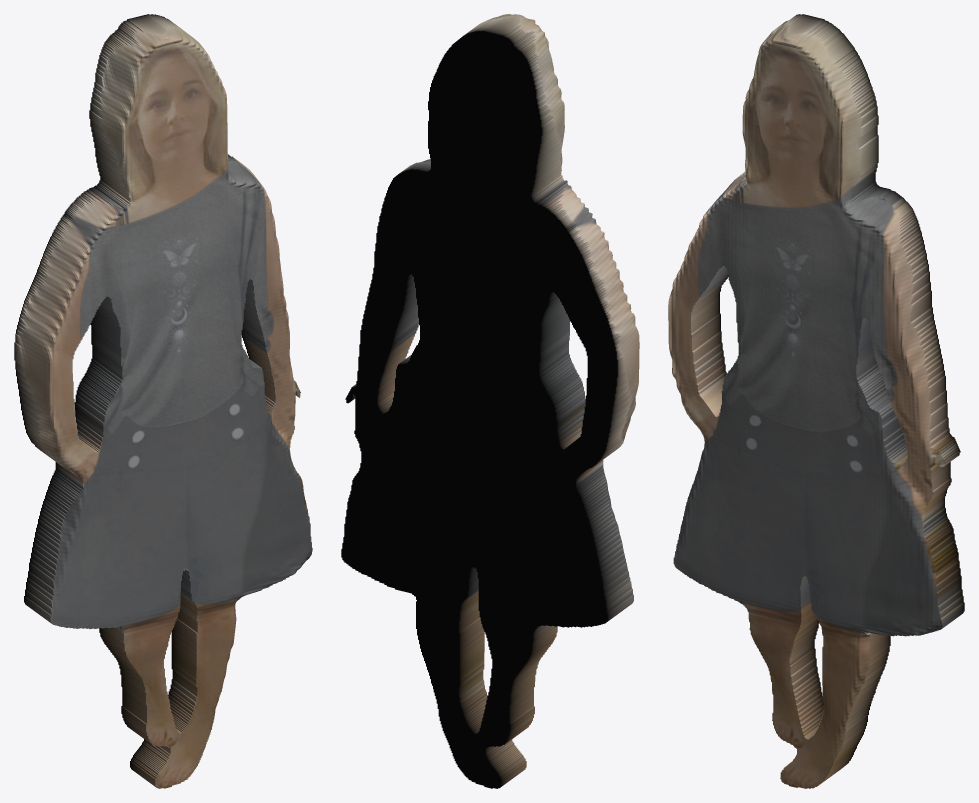
Rendered from avatar_20260409_075040.glb.
3 views of the same model, side by side, from view 1: azimuth 30°, elevation 25°; view 2: azimuth 150°, elevation 25°; view 3: azimuth 330°, elevation 25° (orthographic).
Parts seen in each view (by area): view 1: world; view 2: world; view 3: world.
Boxes of the visible parts, x1,y1,x2,y2 form: world: (14, 14, 312, 788); world: (341, 14, 639, 788); world: (668, 14, 964, 788).
Bounding box in the file's own units: 0.7114 × 1.86 × 0.1408.
